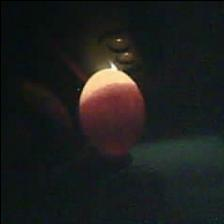fertile: (77, 67, 145, 156)
